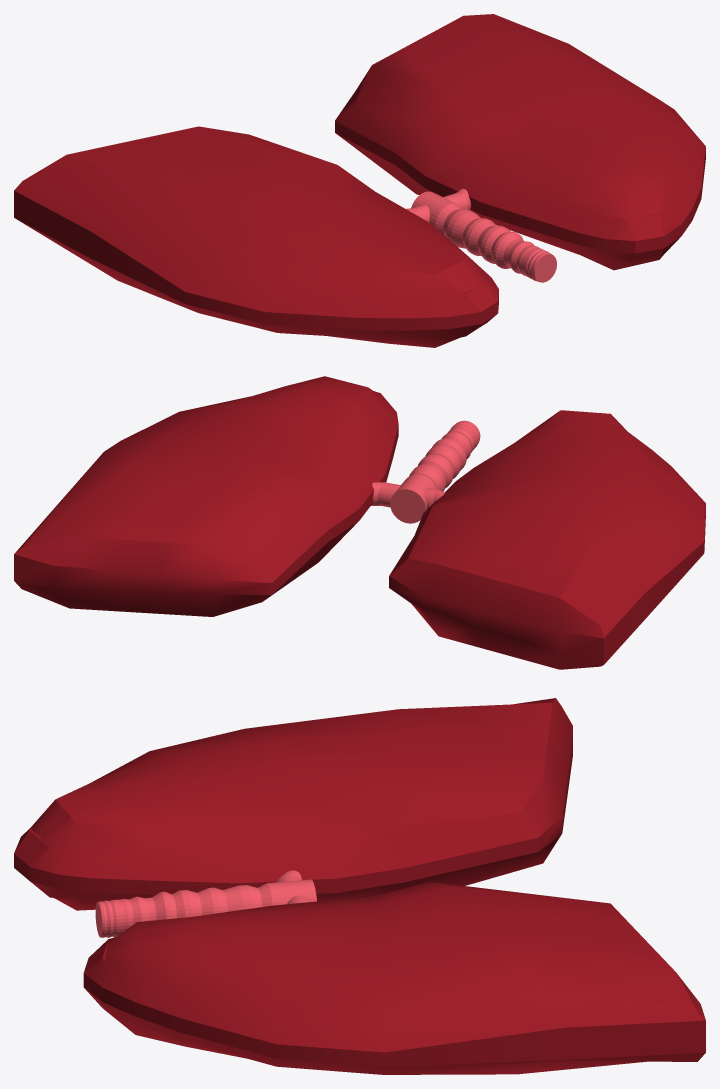
File: Lung.fbx
3 renders of one model, top to bottom at view 1: azimuth 30°, elevation 25°; view 2: azimuth 150°, elevation 25°; view 3: azimuth 270°, elevation 25°, orthographic. The views are drawn at different scales.
Visible parts, largest first — view 1: Plane, Plane.001, Cylinder.001; view 2: Plane.001, Plane, Cylinder.001; view 3: Plane.001, Plane, Cylinder.001.
Boxes of the visible parts, x1=… form: Plane: x1=14, y1=126, x2=498, y2=347; Plane.001: x1=335, y1=14, x2=705, y2=270; Cylinder.001: x1=406, y1=188, x2=556, y2=282; Plane.001: x1=14, y1=376, x2=398, y2=616; Plane: x1=389, y1=410, x2=705, y2=669; Cylinder.001: x1=371, y1=420, x2=480, y2=523; Plane.001: x1=83, y1=882, x2=705, y2=1074; Plane: x1=14, y1=698, x2=572, y2=910; Cylinder.001: x1=95, y1=870, x2=316, y2=937.
Bounding box in the file's own units: 261 × 45.11 × 226.
Materials: 2 (2 with a texture image).
